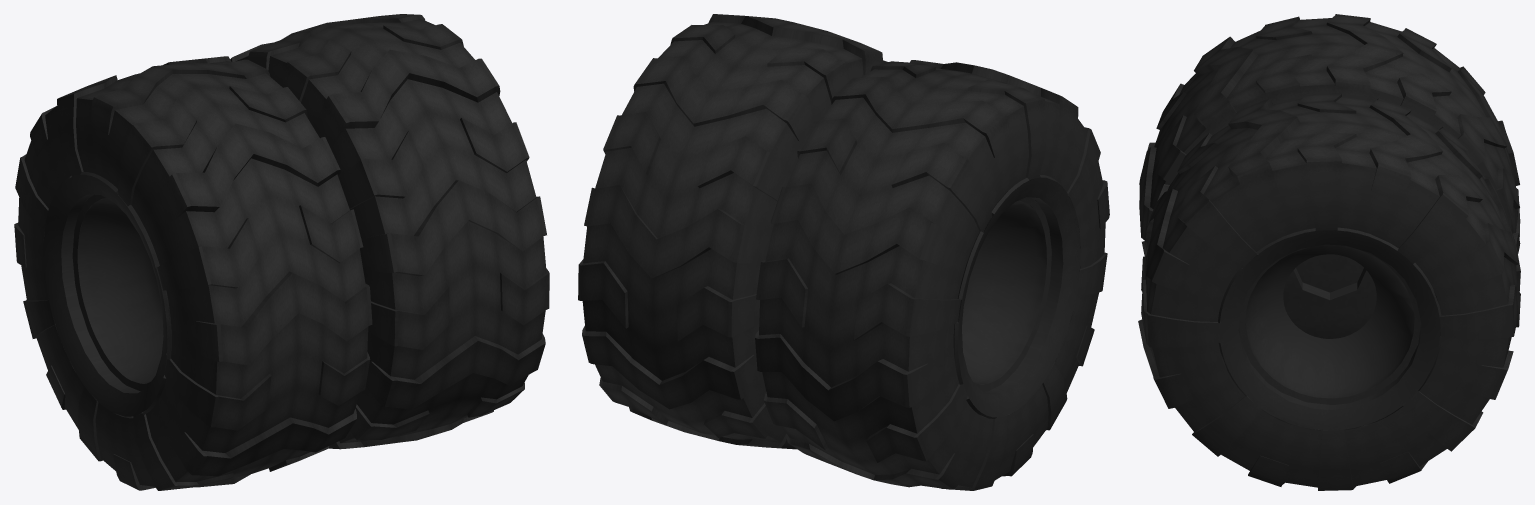
File: TW_wheel_rear.obj
The picture shows the model from 3 angles, left to right: view 1: azimuth 30°, elevation 25°; view 2: azimuth 150°, elevation 25°; view 3: azimuth 270°, elevation 25°; orthographic projection. The views are drawn at different scales.
Bounding box in the file's own units: 1.07 × 1.11 × 1.11.
Materials: 1 (1 with a texture image).
